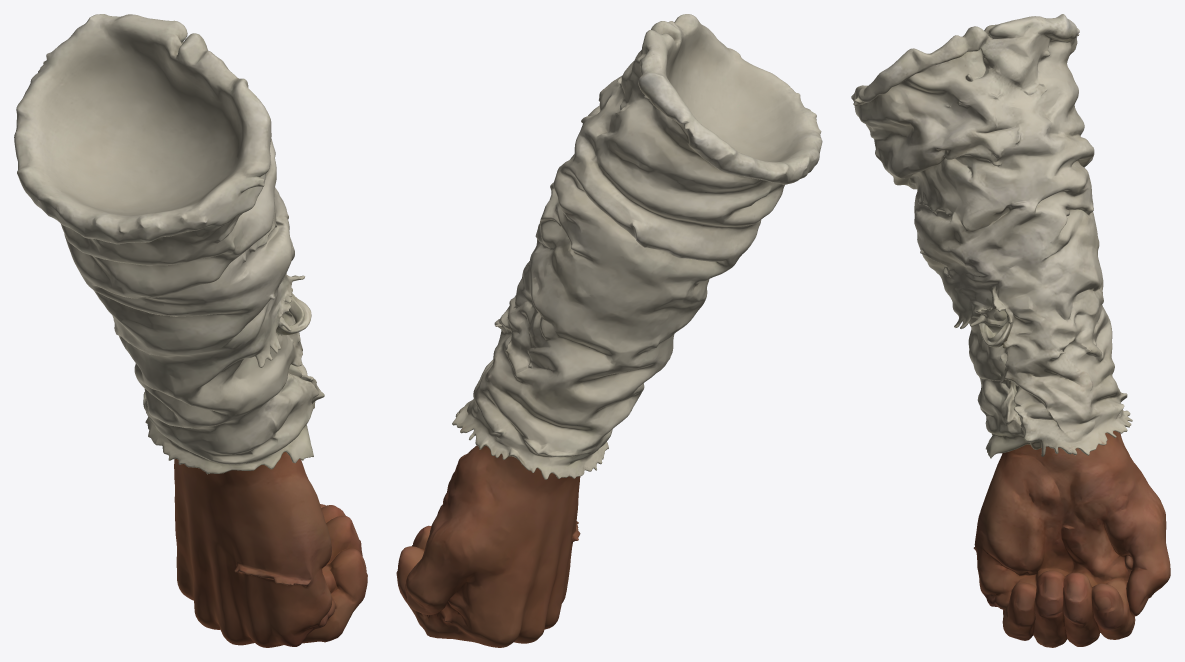
3 views of the same model, side by side, from view 1: azimuth 30°, elevation 25°; view 2: azimuth 150°, elevation 25°; view 3: azimuth 270°, elevation 25° (orthographic). The views are drawn at different scales.
Parts seen in each view (by area): view 1: tripo_node_93accc2e-f523-4fb7-a7ec-d42f0374648d; view 2: tripo_node_93accc2e-f523-4fb7-a7ec-d42f0374648d; view 3: tripo_node_93accc2e-f523-4fb7-a7ec-d42f0374648d.
Boxes of the visible parts, bbox=[...] form: tripo_node_93accc2e-f523-4fb7-a7ec-d42f0374648d: bbox=[14, 14, 367, 647]; tripo_node_93accc2e-f523-4fb7-a7ec-d42f0374648d: bbox=[396, 14, 822, 647]; tripo_node_93accc2e-f523-4fb7-a7ec-d42f0374648d: bbox=[851, 14, 1170, 647].
Bounding box in the file's own units: 0.584 × 1 × 0.5208.
Materials: 1 (1 with a texture image).
